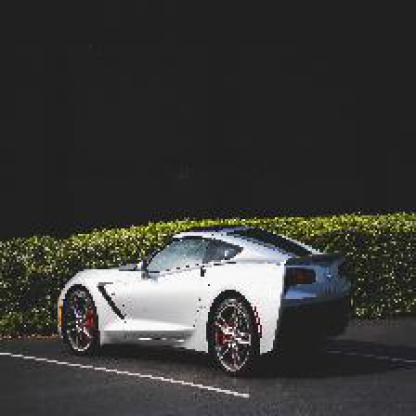not_emergency: (44, 216, 368, 356)
